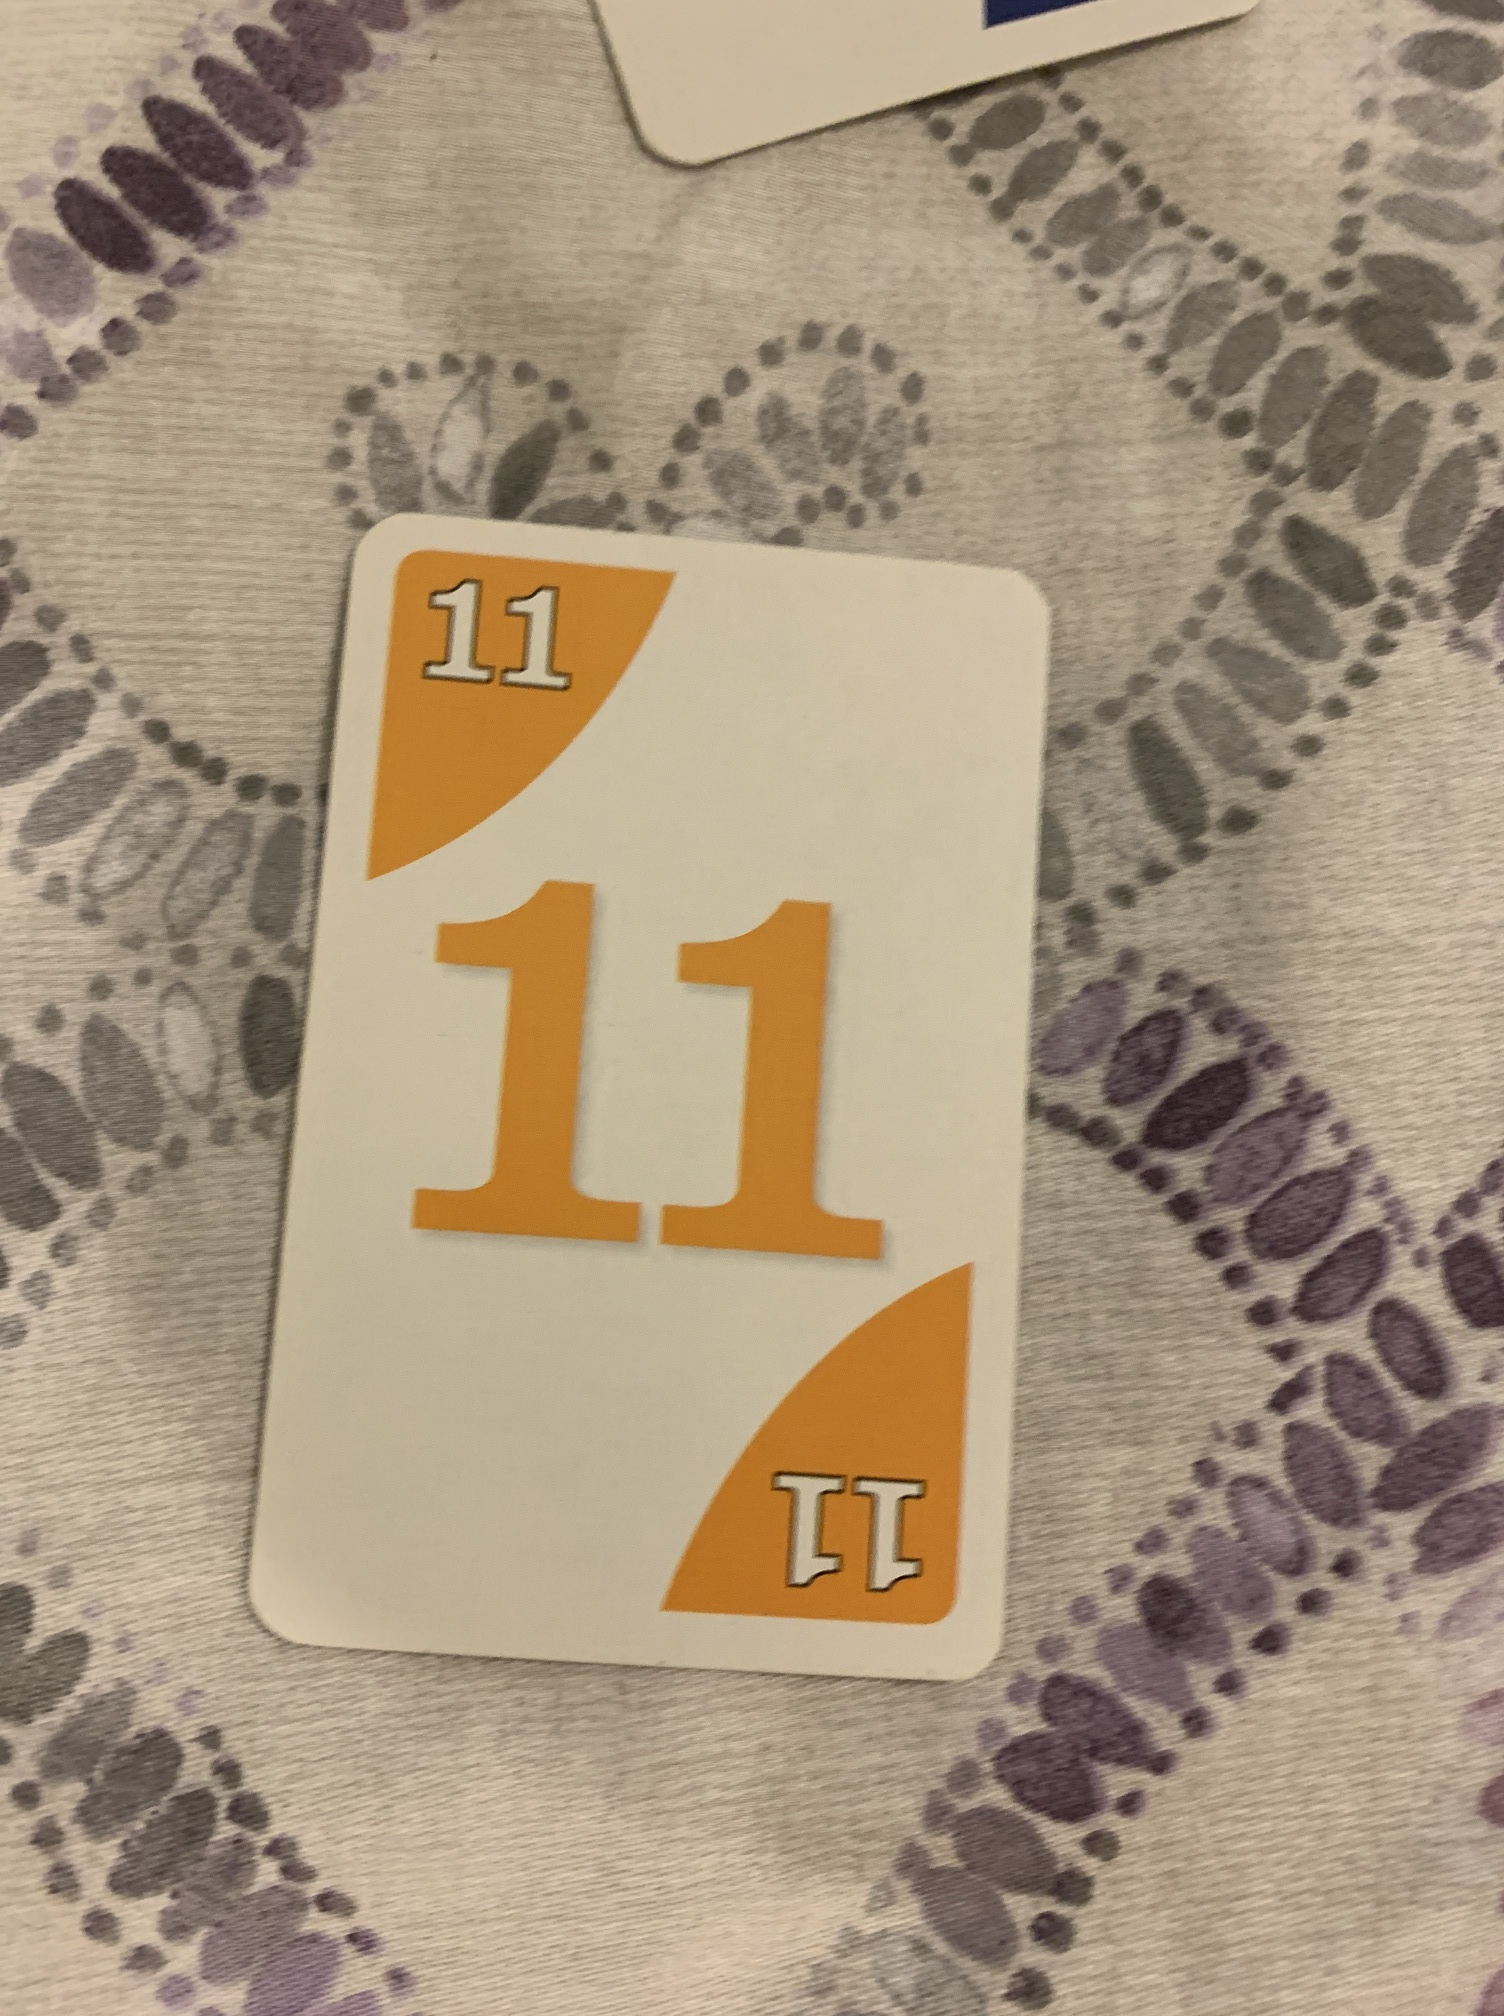eleven: (250, 513, 1066, 1717)
